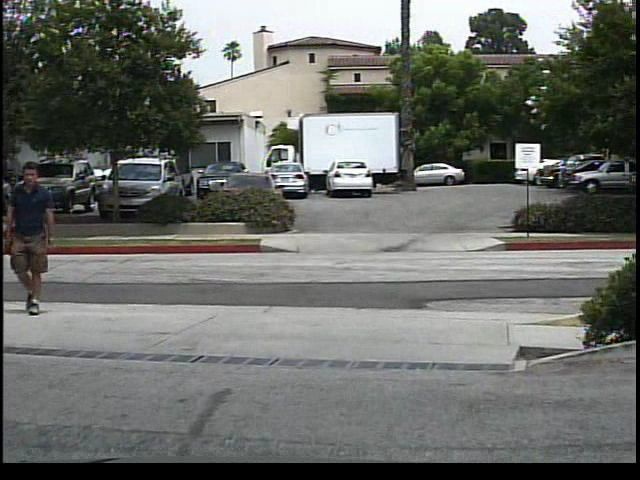person: (10, 161, 59, 318)
